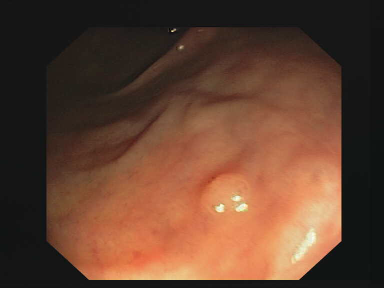polyp: (189, 161, 272, 230)
